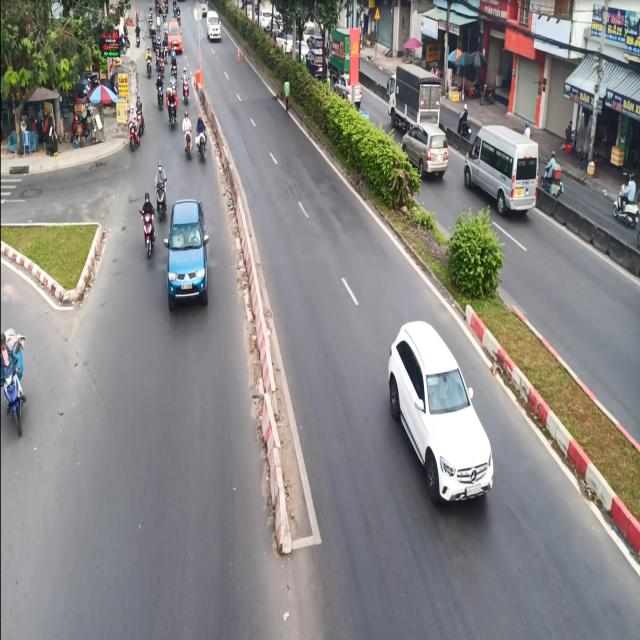car: (385, 315, 503, 524), (165, 193, 212, 316)
motor: (0, 338, 30, 439), (138, 182, 156, 264), (180, 108, 196, 157), (195, 110, 208, 166)
